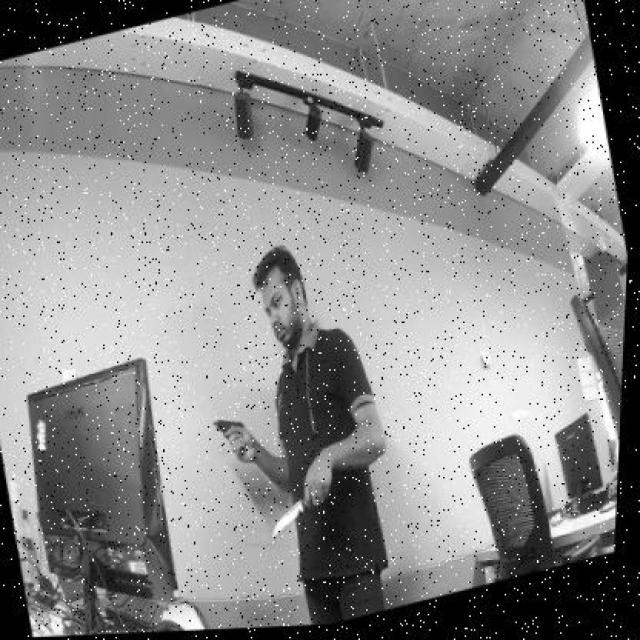weapon: (212, 418, 250, 459)
